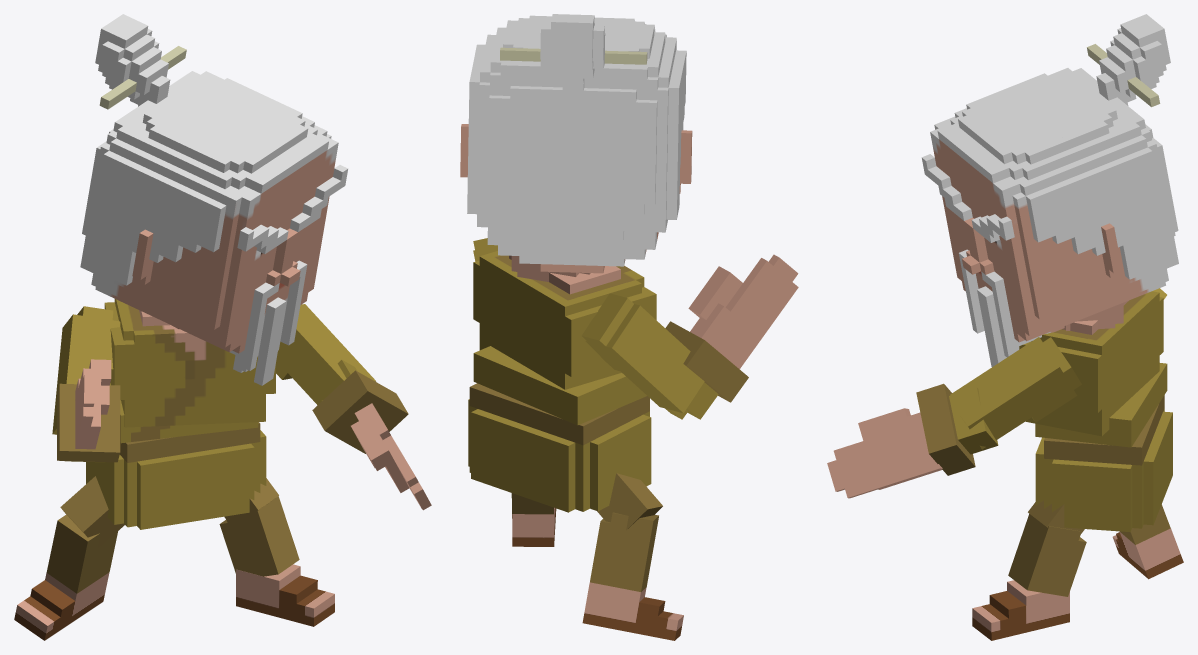
File: chinesse.fbx
3 views of the same model, side by side, from view 1: azimuth 30°, elevation 25°; view 2: azimuth 150°, elevation 25°; view 3: azimuth 270°, elevation 25° (orthographic). The views are drawn at different scales.
Visible parts, largest first — view 1: chinesse; view 2: chinesse; view 3: chinesse.
Boxes of the visible parts, x1,y1,x2,y2 form: chinesse: [14, 14, 431, 640]; chinesse: [460, 14, 798, 640]; chinesse: [827, 14, 1183, 640].
Size of the model in its own units: 349 by 636 by 359.
Materials: 1 (1 with a texture image).
